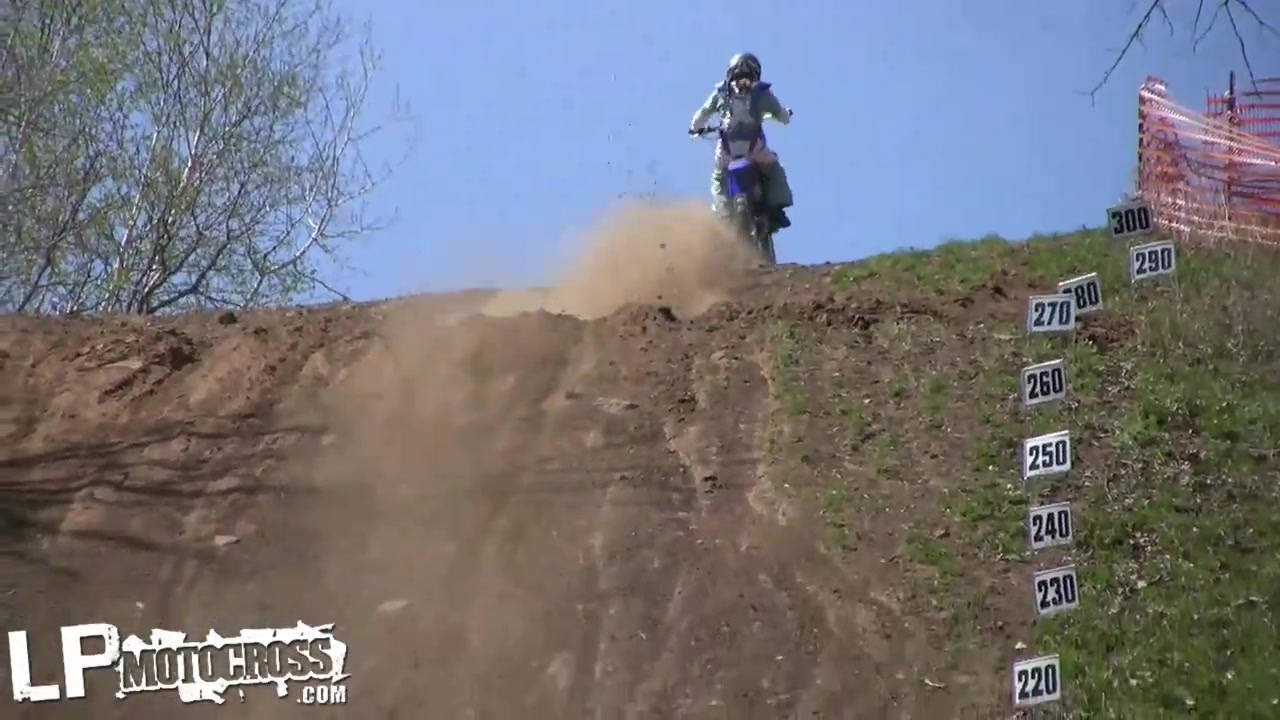motorbike: (692, 107, 794, 280)
